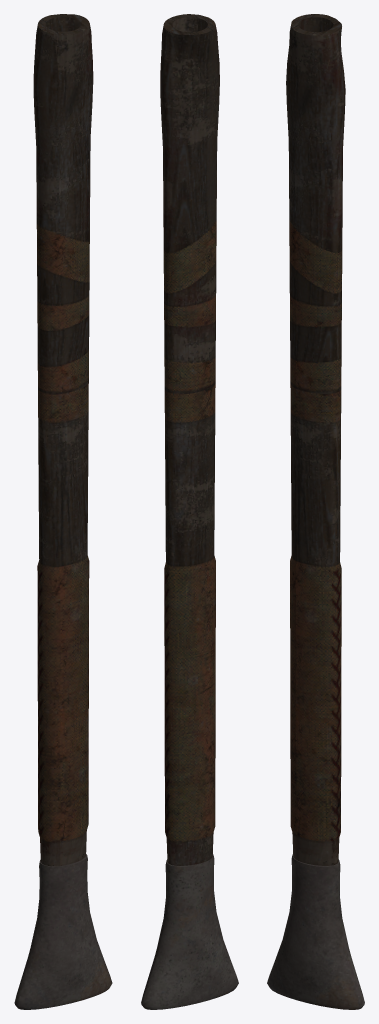
File: wm_dol_goldur_2h_mace_a01_handle.fbx
The picture shows the model from 3 angles, left to right: view 1: azimuth 30°, elevation 25°; view 2: azimuth 210°, elevation 25°; view 3: azimuth 330°, elevation 25°; orthographic projection.
Parts seen in each view (by area): view 1: wm_dol_goldur_2h_mace_a01_handle; view 2: wm_dol_goldur_2h_mace_a01_handle; view 3: wm_dol_goldur_2h_mace_a01_handle.
Boxes of the visible parts, x1,y1,x2,y2 form: wm_dol_goldur_2h_mace_a01_handle: (14, 14, 112, 1009); wm_dol_goldur_2h_mace_a01_handle: (141, 14, 238, 1009); wm_dol_goldur_2h_mace_a01_handle: (267, 14, 364, 1009).
Size of the model in its own units: 0.0917 by 0.0414 by 0.8816.
1 material, 1 textured.
